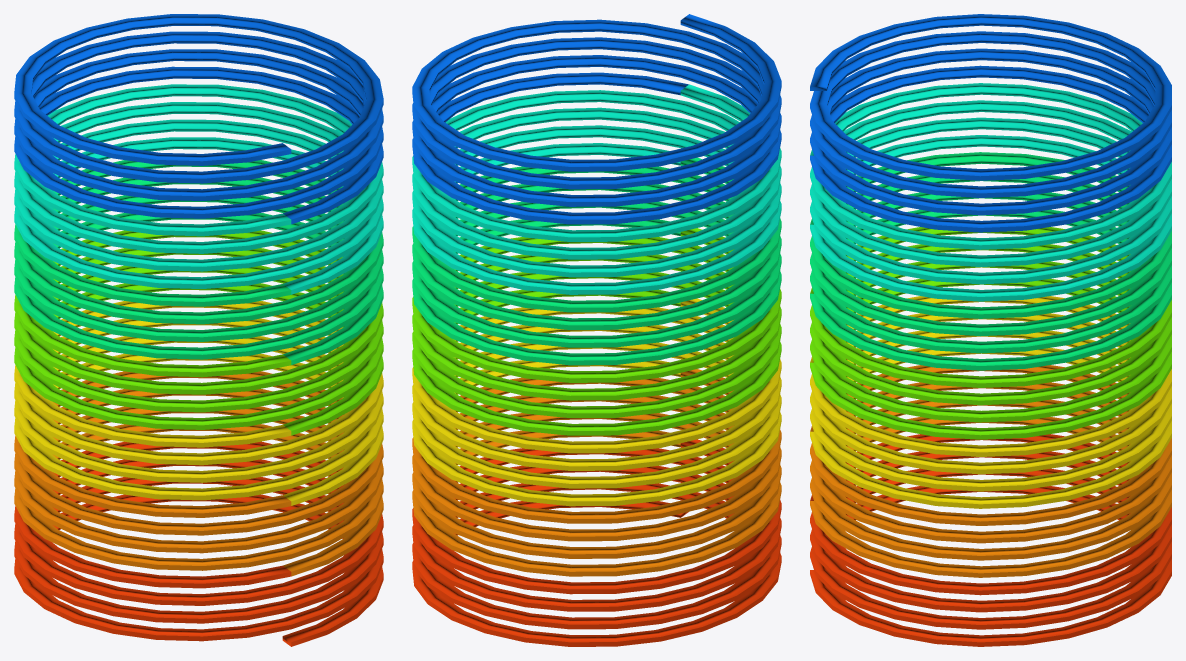
The model's file is Slinky.fbx.
3 renders of one model, left to right at view 1: azimuth 30°, elevation 25°; view 2: azimuth 150°, elevation 25°; view 3: azimuth 270°, elevation 25°, orthographic.
Visible parts, largest first — view 1: Circle.006, Circle.005, Circle, Circle.002, Circle.003, Circle.004, Circle.001; view 2: Circle.006, Circle.005, Circle.004, Circle.003, Circle.001, Circle.002, Circle; view 3: Circle.006, Circle.005, Circle.004, Circle.002, Circle.003, Circle.001, Circle.
Boxes of the visible parts, left/top/right/bottom form: Circle.006: left=14, top=14, right=383, bottom=224; Circle.005: left=14, top=84, right=383, bottom=294; Circle: left=14, top=441, right=383, bottom=646; Circle.002: left=14, top=301, right=383, bottom=505; Circle.003: left=14, top=230, right=383, bottom=435; Circle.004: left=14, top=160, right=383, bottom=364; Circle.001: left=14, top=371, right=383, bottom=576; Circle.006: left=412, top=14, right=781, bottom=224; Circle.005: left=412, top=84, right=781, bottom=294; Circle.004: left=412, top=157, right=781, bottom=365; Circle.003: left=412, top=228, right=781, bottom=435; Circle.001: left=412, top=369, right=781, bottom=576; Circle.002: left=412, top=298, right=781, bottom=506; Circle: left=412, top=439, right=781, bottom=646; Circle.006: left=810, top=14, right=1171, bottom=232; Circle.005: left=810, top=83, right=1171, bottom=301; Circle.004: left=810, top=152, right=1171, bottom=370; Circle.002: left=810, top=296, right=1171, bottom=508; Circle.003: left=810, top=227, right=1171, bottom=439; Circle.001: left=810, top=365, right=1171, bottom=577; Circle: left=810, top=434, right=1171, bottom=646.
Size of the model in its own units: 200 by 296 by 199.
